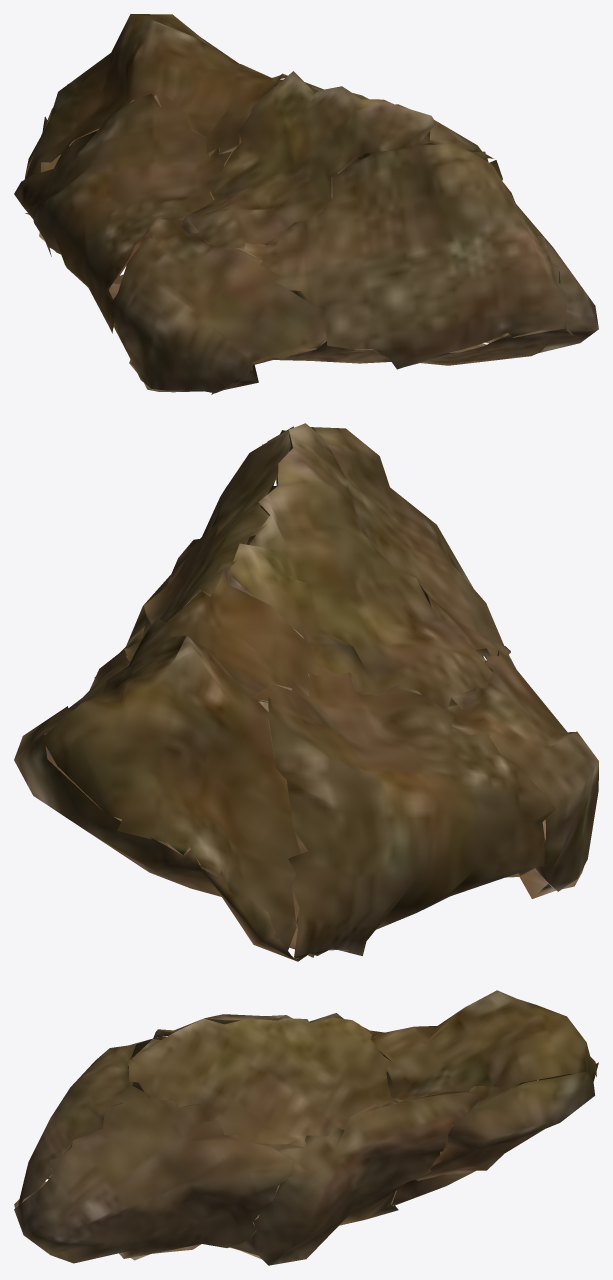
File: rock_moss_b.glb
The picture shows the model from 3 angles, top to bottom: view 1: azimuth 30°, elevation 25°; view 2: azimuth 150°, elevation 25°; view 3: azimuth 270°, elevation 25°; orthographic projection. The views are drawn at different scales.
Parts seen in each view (by area): view 1: rock_moss_set_01_rock01; view 2: rock_moss_set_01_rock01; view 3: rock_moss_set_01_rock01.
Boxes of the visible parts, x1=… form: rock_moss_set_01_rock01: x1=14, y1=14, x2=598, y2=394; rock_moss_set_01_rock01: x1=14, y1=423, x2=598, y2=961; rock_moss_set_01_rock01: x1=14, y1=990, x2=598, y2=1265.
Bounding box in the file's own units: 2.27 × 1.48 × 3.39.
Materials: 1 (1 with a texture image).
